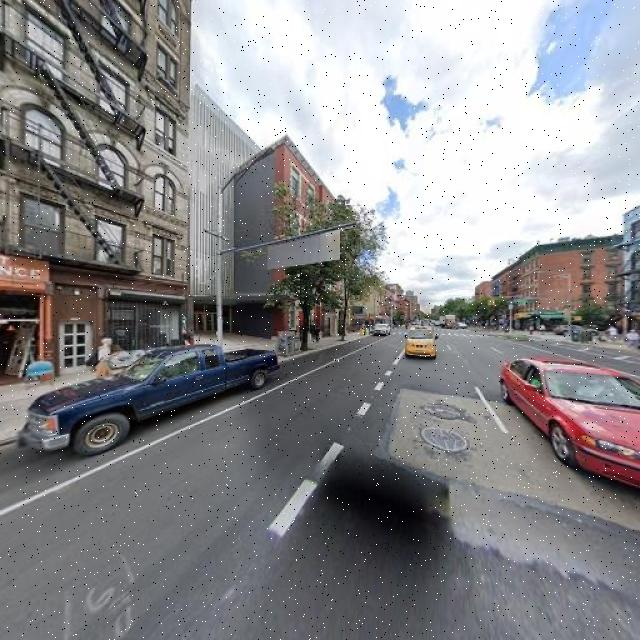Building: (1, 1, 187, 385), (283, 129, 352, 343), (502, 234, 619, 335), (194, 88, 224, 335), (628, 212, 640, 342)
